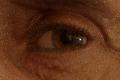eye: (53, 30, 82, 49)
